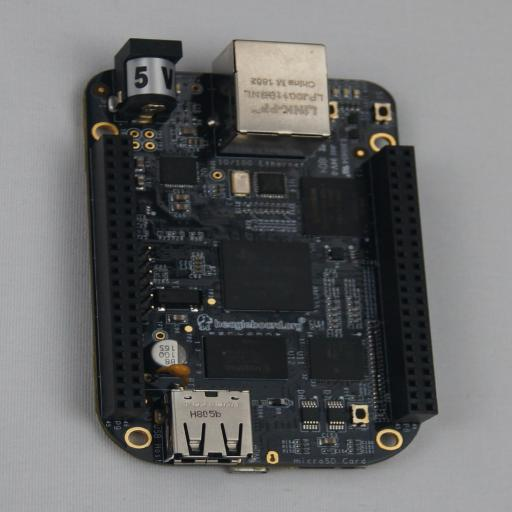Beaglebone Black: (82, 38, 438, 474)
